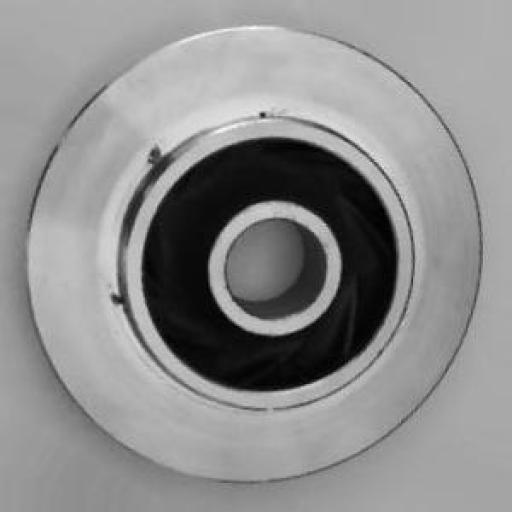defect: (48, 128, 200, 320)
